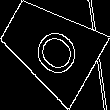O_NW: (20, 15, 80, 78)
